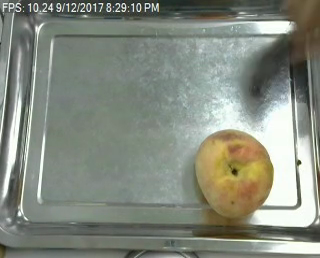Peach: (194, 128, 274, 219)
